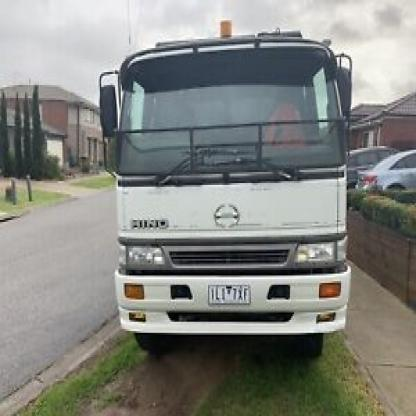dump_truck: (91, 22, 362, 353)
